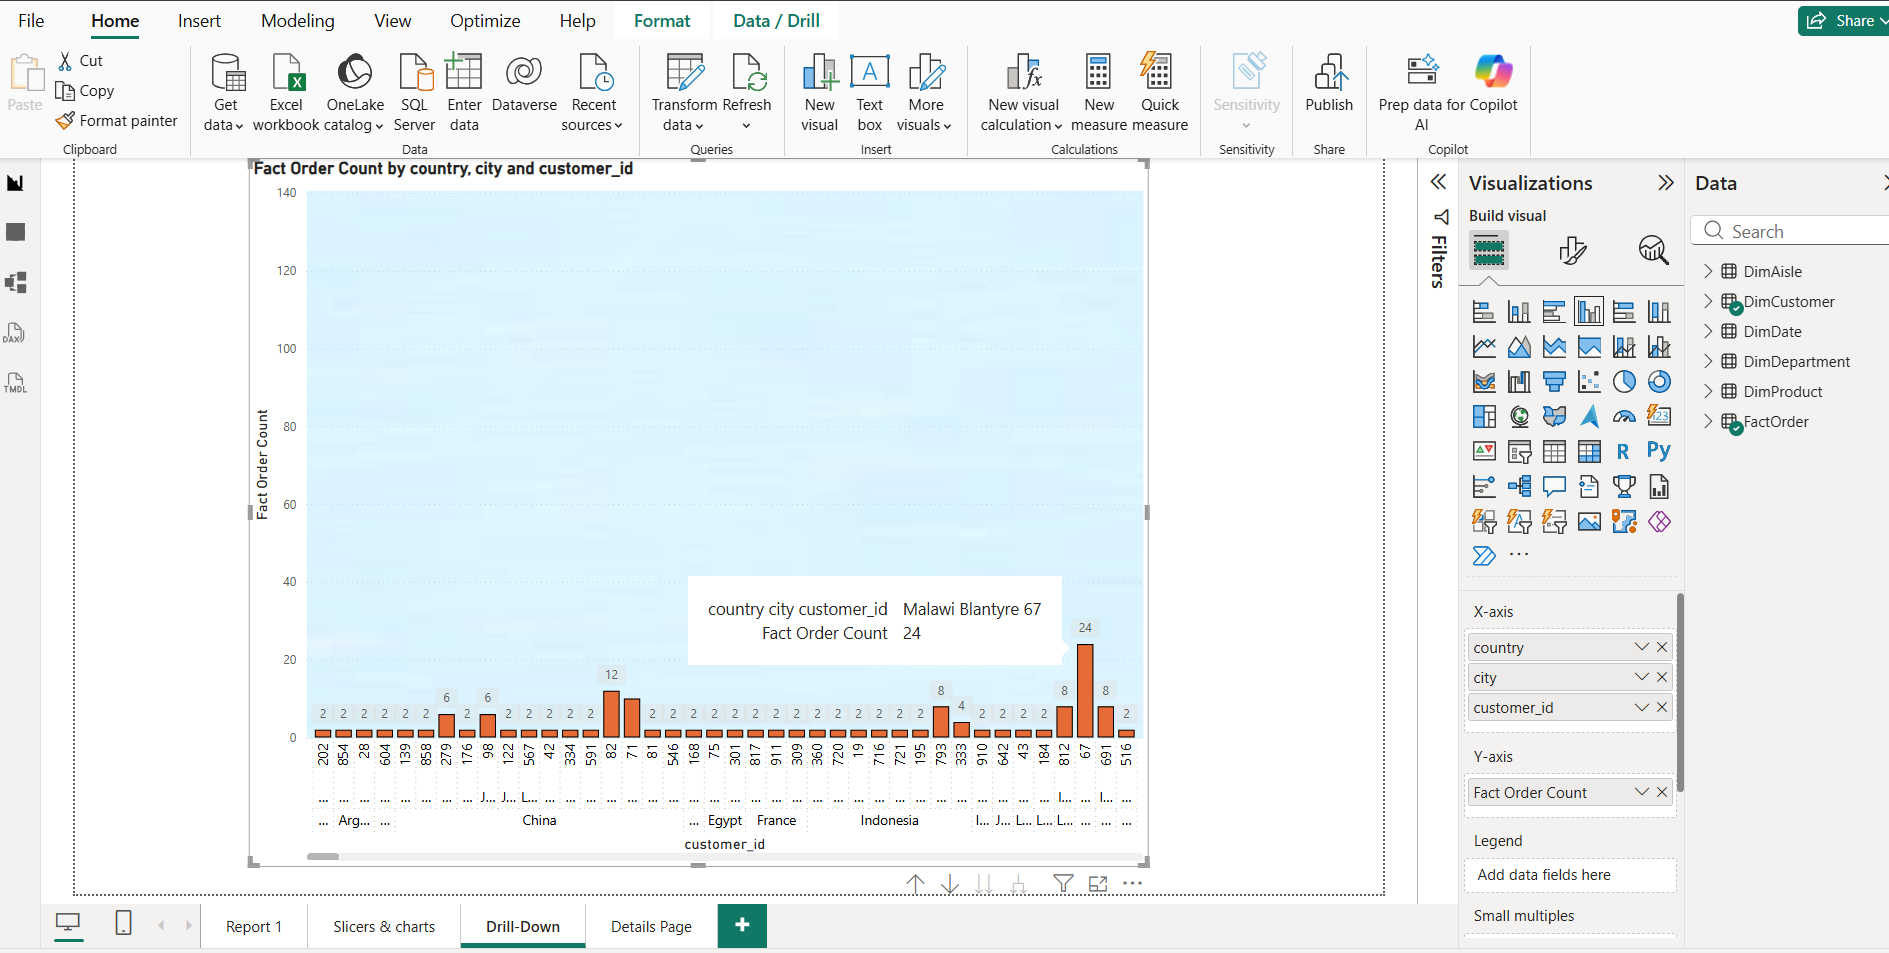

The dashboard page shown, as its layout file describes it:
{"tool":"powerbi","page":{"name":"Drill-Down","canvas":[1280,720],"ordinal":2},"visuals":[{"type":"clusteredColumnChart","fields":{"Y":["FactOrder.Fact Order Count"],"Category":["DimCustomer.country","DimCustomer.city","DimCustomer.customer_id"]},"box":[170,0,880,692.9],"z":0}]}

Visuals, with their boxes on the page's 1280x720 design canvas (x1, y1, x2, y2). These are canvas units, not pixel positions in the 1889x953 screenshot, which may show the page scaled, cropped or inside an application window:
clusteredColumnChart - FactOrder.Fact Order Count x DimCustomer.country: 170/0/1050/693
